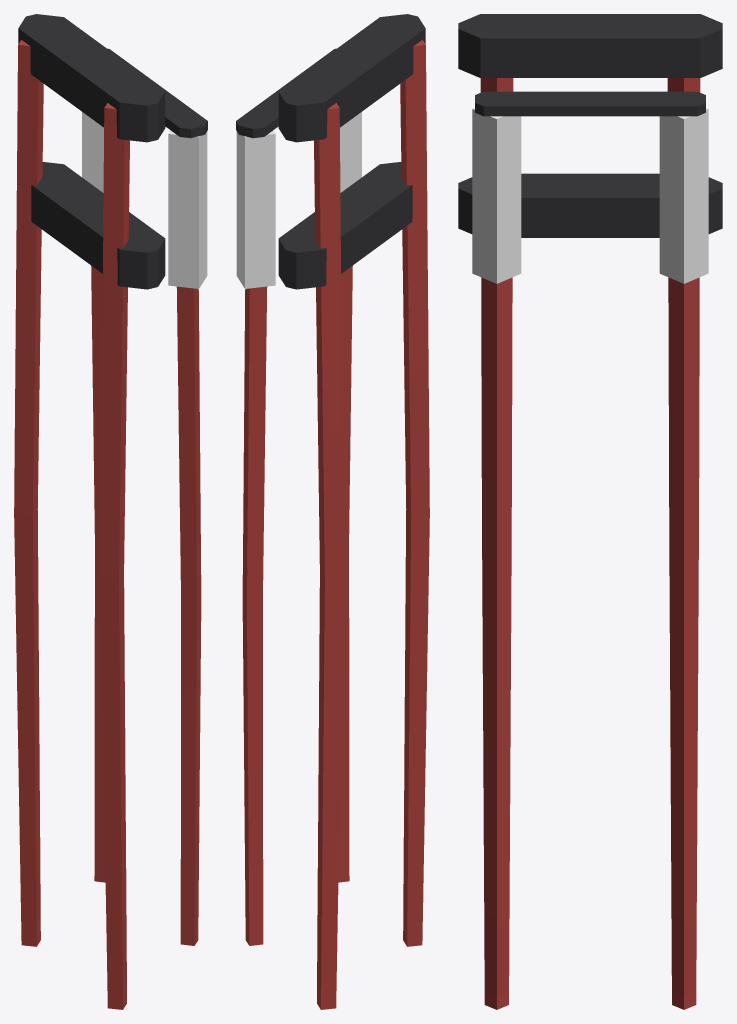
File: springer_long_upper_lod2.glb
3 views of the same model, side by side, from view 1: azimuth 30°, elevation 25°; view 2: azimuth 150°, elevation 25°; view 3: azimuth 270°, elevation 25° (orthographic). The views are drawn at different scales.
Parts seen in each view (by area): view 1: springer_long_upper_lod2; view 2: springer_long_upper_lod2; view 3: springer_long_upper_lod2.
Boxes of the visible parts, x1,y1,x2,y2 form: springer_long_upper_lod2: (14, 14, 207, 1009); springer_long_upper_lod2: (236, 14, 429, 1009); springer_long_upper_lod2: (458, 14, 722, 1009).
Bounding box in the file's own units: 0.1217 × 0.9901 × 0.24.
